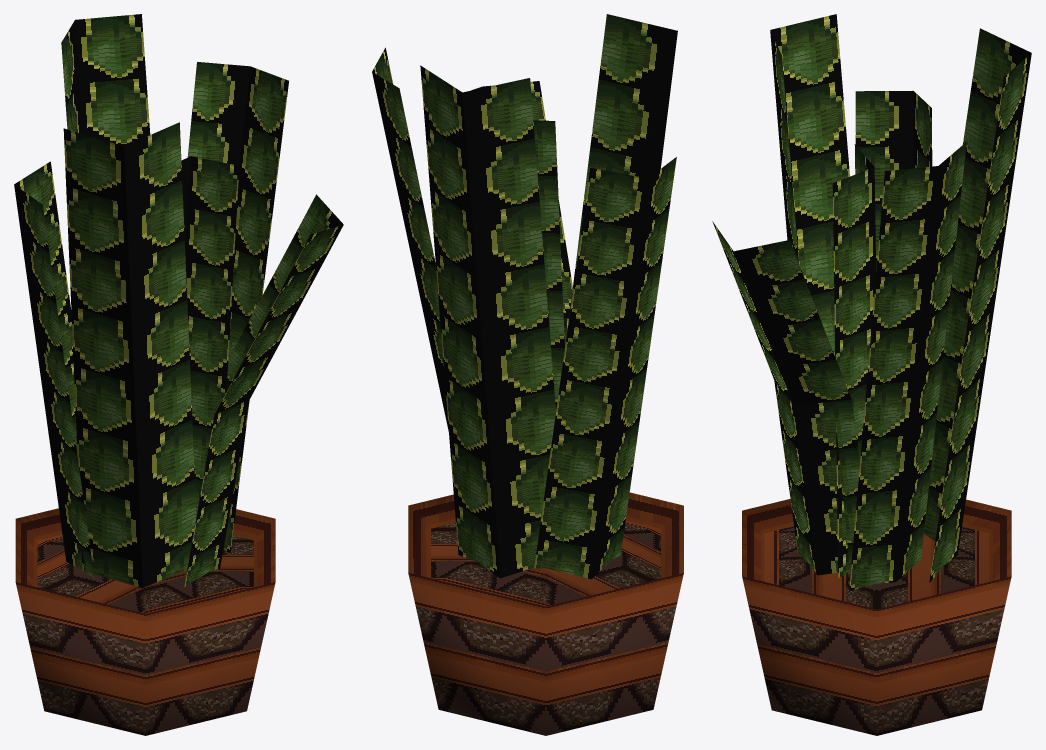
File: 3465IMPT01_04.gltf
3 views of the same model, side by side, from view 1: azimuth 30°, elevation 25°; view 2: azimuth 150°, elevation 25°; view 3: azimuth 270°, elevation 25° (orthographic). The views are drawn at different scales.
Parts seen in each view (by area): view 1: 3465IMPT01_04; view 2: 3465IMPT01_04; view 3: 3465IMPT01_04.
Part boxes in pixels (x1,y1,x2,y2): 3465IMPT01_04: (14,14,343,735); 3465IMPT01_04: (372,14,683,735); 3465IMPT01_04: (712,14,1031,735).
Size of the model in its own units: 0.5146 by 1.09 by 0.4951.
2 materials, 2 textured.
